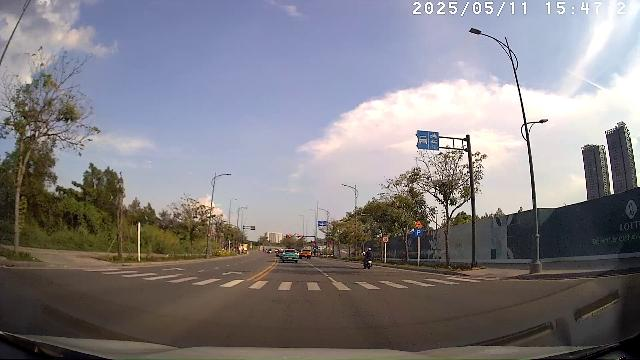127-toc-do-toi-da-50: (382, 236, 390, 242)
